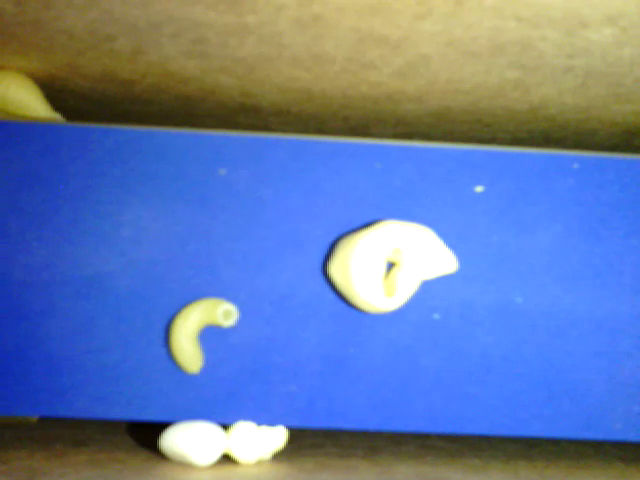tortellini: (323, 218, 457, 313), (166, 295, 239, 375)
